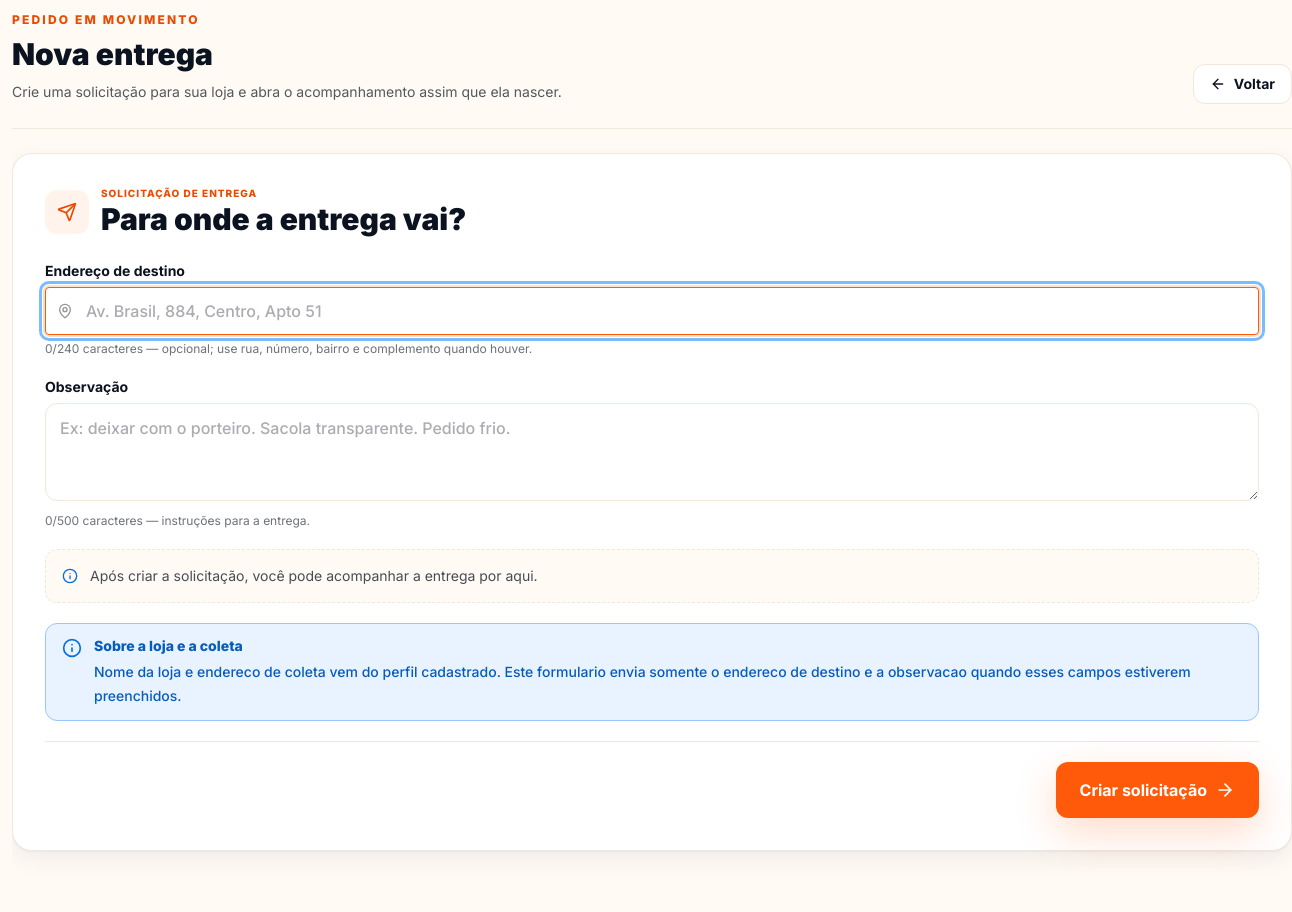
Scenario: NovaEntregaFlow › offers a clear CTA to the created delivery detail
What coordinates should you click on to do the following:
click the button "Criar solicitação"
I would click on:
 (1157, 790)
Its box is [1056,762,1259,818].
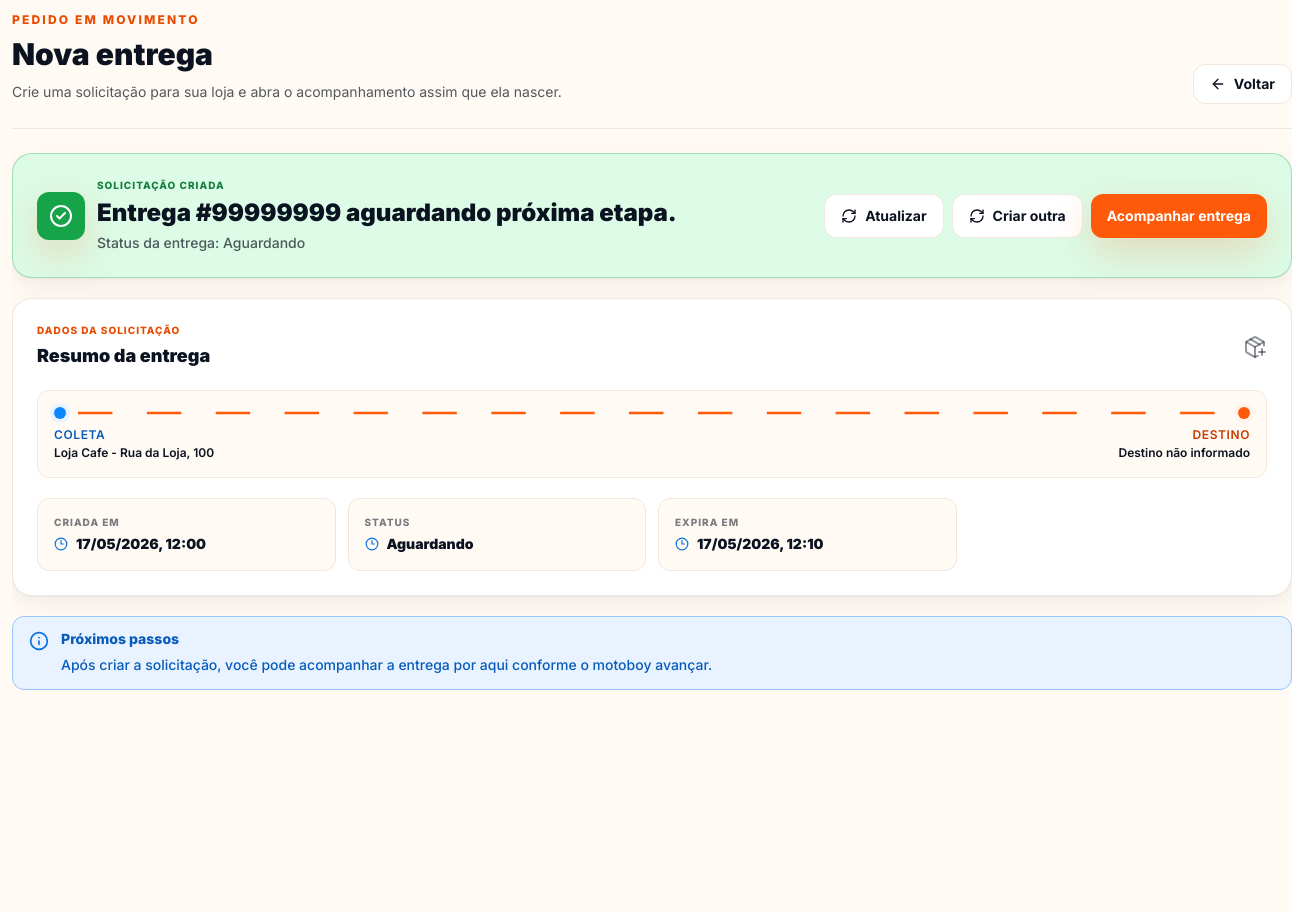
Expected: the text "Sua loja" is not shown
Now the text "Loja Cafe - Rua da Loja, 100" is shown, box [54,445,214,461]
